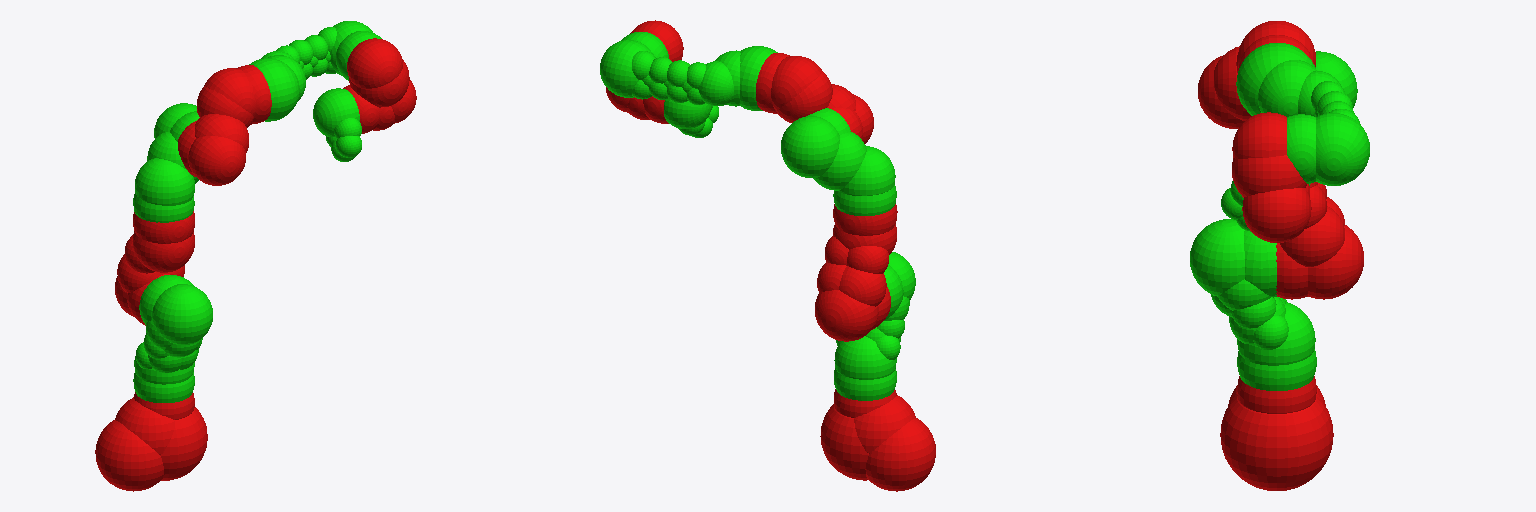
URDF robot description (panda):
<?xml version="1.0" encoding="utf-8"?>
<!-- =================================================================================== -->
<!-- |    This document was autogenerated by xacro from panda_arm.urdf.xacro           | -->
<!-- |    EDITING THIS FILE BY HAND IS NOT RECOMMENDED                                 | -->
<!-- =================================================================================== -->
<robot name="panda">
  <material name="redtran">
    <color rgba=".9 .1 .1 0.3"/>
  </material>
  <material name="greentran">
    <color rgba=".1 .9 .1 0.3"/>
  </material>
  <material name="bluetran">
    <color rgba=".1 .1 .9 0.3"/>
  </material>
  <link name="panda_link0">
    <visual>
      <geometry>
        <mesh filename="package://franka_description/meshes/visual/link0.dae"/>
      </geometry>
    </visual>
    <collision>
      <geometry>
        <mesh filename="package://franka_description/meshes/collision/link0.stl"/>
      </geometry>
    </collision>
    <visual>
      <origin xyz="0 0 .117"/>
      <geometry>
        <sphere radius="0.06"/>
      </geometry>
      <material name="redtran"/>
    </visual>
    <visual>
      <origin xyz="0 0 .042"/>
      <geometry>
        <sphere radius="0.085"/>
      </geometry>
      <material name="redtran"/>
    </visual>
    <visual>
      <origin xyz="-.029 0 .061"/>
      <geometry>
        <sphere radius="0.075"/>
      </geometry>
      <material name="redtran"/>
    </visual>
    <visual>
      <origin xyz="-.068 0 .024"/>
      <geometry>
        <sphere radius="0.075"/>
      </geometry>
      <material name="redtran"/>
    </visual>
  </link>
  <link name="panda_link1">
    <visual>
      <geometry>
        <mesh filename="package://franka_description/meshes/visual/link1.dae"/>
      </geometry>
    </visual>
    <collision>
      <geometry>
        <mesh filename="package://franka_description/meshes/collision/link1.stl"/>
      </geometry>
    </collision>
    <visual>
      <origin xyz="0 -.071 0"/>
      <geometry>
        <sphere radius="0.06"/>
      </geometry>
      <material name="greentran"/>
    </visual>
    <visual>
      <origin xyz="0 -.024 0"/>
      <geometry>
        <sphere radius="0.061"/>
      </geometry>
      <material name="greentran"/>
    </visual>
    <visual>
      <origin xyz="0 -.001 -.134"/>
      <geometry>
        <sphere radius="0.059"/>
      </geometry>
      <material name="greentran"/>
    </visual>
    <visual>
      <origin xyz="0 0 -.17"/>
      <geometry>
        <sphere radius="0.06"/>
      </geometry>
      <material name="greentran"/>
    </visual>
    <visual>
      <origin xyz=".015 -.048 -.032"/>
      <geometry>
        <sphere radius="0.047"/>
      </geometry>
      <material name="greentran"/>
    </visual>
    <visual>
      <origin xyz="-.015 -.048 -.032"/>
      <geometry>
        <sphere radius="0.047"/>
      </geometry>
      <material name="greentran"/>
    </visual>
    <visual>
      <origin xyz="0 -.054 -.047"/>
      <geometry>
        <sphere radius="0.047"/>
      </geometry>
      <material name="greentran"/>
    </visual>
    <visual>
      <origin xyz=".026 -.035 -.069"/>
      <geometry>
        <sphere radius="0.035"/>
      </geometry>
      <material name="greentran"/>
    </visual>
    <visual>
      <origin xyz=".036 -.011 -.103"/>
      <geometry>
        <sphere radius="0.03"/>
      </geometry>
      <material name="greentran"/>
    </visual>
    <visual>
      <origin xyz="-.026 -.035 -.069"/>
      <geometry>
        <sphere radius="0.035"/>
      </geometry>
      <material name="greentran"/>
    </visual>
    <visual>
      <origin xyz="-.036 -.011 -.103"/>
      <geometry>
        <sphere radius="0.03"/>
      </geometry>
      <material name="greentran"/>
    </visual>
    <visual>
      <origin xyz=".011 -.028 -.093"/>
      <geometry>
        <sphere radius="0.044"/>
      </geometry>
      <material name="greentran"/>
    </visual>
    <visual>
      <origin xyz="-.011 -.028 -.093"/>
      <geometry>
        <sphere radius="0.044"/>
      </geometry>
      <material name="greentran"/>
    </visual>
  </link>
  <joint name="panda_joint1" type="revolute">
    <safety_controller k_position="100.0" k_velocity="40.0" soft_lower_limit="-2.8973" soft_upper_limit="2.8973"/>
    <origin rpy="0 0 0" xyz="0 0 0.333"/>
    <parent link="panda_link0"/>
    <child link="panda_link1"/>
    <axis xyz="0 0 1"/>
    <limit effort="87" lower="-2.8973" upper="2.8973" velocity="2.1750"/>
  </joint>
  <link name="panda_link2">
    <visual>
      <geometry>
        <mesh filename="package://franka_description/meshes/visual/link2.dae"/>
      </geometry>
    </visual>
    <collision>
      <geometry>
        <mesh filename="package://franka_description/meshes/collision/link2.stl"/>
      </geometry>
    </collision>
    <visual>
      <origin xyz="0 -.128 .001"/>
      <geometry>
        <sphere radius="0.061"/>
      </geometry>
      <material name="redtran"/>
    </visual>
    <visual>
      <origin xyz="0 0 .023"/>
      <geometry>
        <sphere radius="0.061"/>
      </geometry>
      <material name="redtran"/>
    </visual>
    <visual>
      <origin xyz="-.016 -.045 .051"/>
      <geometry>
        <sphere radius="0.052"/>
      </geometry>
      <material name="redtran"/>
    </visual>
    <visual>
      <origin xyz=".021 -.097 .032"/>
      <geometry>
        <sphere radius="0.043"/>
      </geometry>
      <material name="redtran"/>
    </visual>
    <visual>
      <origin xyz="0 0 .07"/>
      <geometry>
        <sphere radius="0.061"/>
      </geometry>
      <material name="redtran"/>
    </visual>
    <visual>
      <origin xyz="0 -.173 0"/>
      <geometry>
        <sphere radius="0.061"/>
      </geometry>
      <material name="redtran"/>
    </visual>
    <visual>
      <origin xyz=".016 -.045 .051"/>
      <geometry>
        <sphere radius="0.052"/>
      </geometry>
      <material name="redtran"/>
    </visual>
    <visual>
      <origin xyz="-.021 -.097 .032"/>
      <geometry>
        <sphere radius="0.043"/>
      </geometry>
      <material name="redtran"/>
    </visual>
  </link>
  <joint name="panda_joint2" type="revolute">
    <safety_controller k_position="100.0" k_velocity="40.0" soft_lower_limit="-1.7628" soft_upper_limit="1.7628"/>
    <origin rpy="-1.57079632679 0 0" xyz="0 0 0"/>
    <parent link="panda_link1"/>
    <child link="panda_link2"/>
    <axis xyz="0 0 1"/>
    <limit effort="87" lower="-1.7628" upper="1.7628" velocity="2.1750"/>
  </joint>
  <link name="panda_link3">
    <visual>
      <geometry>
        <mesh filename="package://franka_description/meshes/visual/link3.dae"/>
      </geometry>
    </visual>
    <collision>
      <geometry>
        <mesh filename="package://franka_description/meshes/collision/link3.stl"/>
      </geometry>
    </collision>
    <visual>
      <origin xyz=".045 .026 -.032"/>
      <geometry>
        <sphere radius="0.059"/>
      </geometry>
      <material name="greentran"/>
    </visual>
    <visual>
      <origin xyz=".084 .017 -.001"/>
      <geometry>
        <sphere radius="0.06"/>
      </geometry>
      <material name="greentran"/>
    </visual>
    <visual>
      <origin xyz=".081 .062 0"/>
      <geometry>
        <sphere radius="0.059"/>
      </geometry>
      <material name="greentran"/>
    </visual>
    <visual>
      <origin xyz="0 .001 -.105"/>
      <geometry>
        <sphere radius="0.06"/>
      </geometry>
      <material name="greentran"/>
    </visual>
    <visual>
      <origin xyz=".002 0 -.069"/>
      <geometry>
        <sphere radius="0.059"/>
      </geometry>
      <material name="greentran"/>
    </visual>
  </link>
  <joint name="panda_joint3" type="revolute">
    <safety_controller k_position="100.0" k_velocity="40.0" soft_lower_limit="-2.8973" soft_upper_limit="2.8973"/>
    <origin rpy="1.57079632679 0 0" xyz="0 -0.316 0"/>
    <parent link="panda_link2"/>
    <child link="panda_link3"/>
    <axis xyz="0 0 1"/>
    <limit effort="87" lower="-2.8973" upper="2.8973" velocity="2.1750"/>
  </joint>
  <link name="panda_link4">
    <visual>
      <geometry>
        <mesh filename="package://franka_description/meshes/visual/link4.dae"/>
      </geometry>
    </visual>
    <collision>
      <geometry>
        <mesh filename="package://franka_description/meshes/collision/link4.stl"/>
      </geometry>
    </collision>
    <visual>
      <origin xyz="0 0 .062"/>
      <geometry>
        <sphere radius="0.057"/>
      </geometry>
      <material name="redtran"/>
    </visual>
    <visual>
      <origin xyz="0 0 .018"/>
      <geometry>
        <sphere radius="0.059"/>
      </geometry>
      <material name="redtran"/>
    </visual>
    <visual>
      <origin xyz="-.022 .019 .04"/>
      <geometry>
        <sphere radius="0.058"/>
      </geometry>
      <material name="redtran"/>
    </visual>
    <visual>
      <origin xyz="-.082 .111 0"/>
      <geometry>
        <sphere radius="0.058"/>
      </geometry>
      <material name="redtran"/>
    </visual>
    <visual>
      <origin xyz="-.084 .069 0"/>
      <geometry>
        <sphere radius="0.059"/>
      </geometry>
      <material name="redtran"/>
    </visual>
    <visual>
      <origin xyz="-.071 .057 .002"/>
      <geometry>
        <sphere radius="0.059"/>
      </geometry>
      <material name="redtran"/>
    </visual>
  </link>
  <joint name="panda_joint4" type="revolute">
    <safety_controller k_position="100.0" k_velocity="40.0" soft_lower_limit="-3.0718" soft_upper_limit="-0.0698"/>
    <origin rpy="1.57079632679 0 0" xyz="0.0825 0 0"/>
    <parent link="panda_link3"/>
    <child link="panda_link4"/>
    <axis xyz="0 0 1"/>
    <limit effort="87" lower="-3.0718" upper="-0.0698" velocity="2.1750"/>
  </joint>
  <link name="panda_link5">
    <visual>
      <geometry>
        <mesh filename="package://franka_description/meshes/visual/link5.dae"/>
      </geometry>
    </visual>
    <collision>
      <geometry>
        <mesh filename="package://franka_description/meshes/collision/link5.stl"/>
      </geometry>
    </collision>
    <visual>
      <origin xyz="0 .021 -.197"/>
      <geometry>
        <sphere radius="0.053"/>
      </geometry>
      <material name="greentran"/>
    </visual>
    <visual>
      <origin xyz="-.018 .096 -.036"/>
      <geometry>
        <sphere radius="0.03"/>
      </geometry>
      <material name="greentran"/>
    </visual>
    <visual>
      <origin xyz="0 .085 0"/>
      <geometry>
        <sphere radius="0.055"/>
      </geometry>
      <material name="greentran"/>
    </visual>
    <visual>
      <origin xyz=".018 .096 -.036"/>
      <geometry>
        <sphere radius="0.03"/>
      </geometry>
      <material name="greentran"/>
    </visual>
    <visual>
      <origin xyz="0 .037 0"/>
      <geometry>
        <sphere radius="0.053"/>
      </geometry>
      <material name="greentran"/>
    </visual>
    <visual>
      <origin xyz="0 .001 -.233"/>
      <geometry>
        <sphere radius="0.062"/>
      </geometry>
      <material name="greentran"/>
    </visual>
    <visual>
      <origin xyz="0 .059 -.178"/>
      <geometry>
        <sphere radius="0.043"/>
      </geometry>
      <material name="greentran"/>
    </visual>
    <visual>
      <origin xyz=".015 .077 -.147"/>
      <geometry>
        <sphere radius="0.027"/>
      </geometry>
      <material name="greentran"/>
    </visual>
    <visual>
      <origin xyz="-.015 .091 -.076"/>
      <geometry>
        <sphere radius="0.027"/>
      </geometry>
      <material name="greentran"/>
    </visual>
    <visual>
      <origin xyz="0 .094 -.053"/>
      <geometry>
        <sphere radius="0.024"/>
      </geometry>
      <material name="greentran"/>
    </visual>
    <visual>
      <origin xyz=".015 .087 -.112"/>
      <geometry>
        <sphere radius="0.027"/>
      </geometry>
      <material name="greentran"/>
    </visual>
    <visual>
      <origin xyz="-.015 .087 -.112"/>
      <geometry>
        <sphere radius="0.027"/>
      </geometry>
      <material name="greentran"/>
    </visual>
    <visual>
      <origin xyz=".015 .091 -.076"/>
      <geometry>
        <sphere radius="0.027"/>
      </geometry>
      <material name="greentran"/>
    </visual>
    <visual>
      <origin xyz="-.015 .077 -.147"/>
      <geometry>
        <sphere radius="0.027"/>
      </geometry>
      <material name="greentran"/>
    </visual>
    <visual>
      <origin xyz="0 .081 -.132"/>
      <geometry>
        <sphere radius="0.024"/>
      </geometry>
      <material name="greentran"/>
    </visual>
    <visual>
      <origin xyz="0 .087 -.092"/>
      <geometry>
        <sphere radius="0.022"/>
      </geometry>
      <material name="greentran"/>
    </visual>
  </link>
  <joint name="panda_joint5" type="revolute">
    <safety_controller k_position="100.0" k_velocity="40.0" soft_lower_limit="-2.8973" soft_upper_limit="2.8973"/>
    <origin rpy="-1.57079632679 0 0" xyz="-0.0825 0.384 0"/>
    <parent link="panda_link4"/>
    <child link="panda_link5"/>
    <axis xyz="0 0 1"/>
    <limit effort="12" lower="-2.8973" upper="2.8973" velocity="2.6100"/>
  </joint>
  <link name="panda_link6">
    <visual>
      <geometry>
        <mesh filename="package://franka_description/meshes/visual/link6.dae"/>
      </geometry>
    </visual>
    <collision>
      <geometry>
        <mesh filename="package://franka_description/meshes/collision/link6.stl"/>
      </geometry>
    </collision>
    <visual>
      <origin xyz=".087 -.03 .0"/>
      <geometry>
        <sphere radius="0.05"/>
      </geometry>
      <material name="redtran"/>
    </visual>
    <visual>
      <origin xyz=".028 .011 .009"/>
      <geometry>
        <sphere radius="0.059"/>
      </geometry>
      <material name="redtran"/>
    </visual>
    <visual>
      <origin xyz="-.001 0 .012"/>
      <geometry>
        <sphere radius="0.055"/>
      </geometry>
      <material name="redtran"/>
    </visual>
    <visual>
      <origin xyz=".079 .04 0"/>
      <geometry>
        <sphere radius="0.052"/>
      </geometry>
      <material name="redtran"/>
    </visual>
    <visual>
      <origin xyz=".09 .01 .0"/>
      <geometry>
        <sphere radius="0.049"/>
      </geometry>
      <material name="redtran"/>
    </visual>
  </link>
  <joint name="panda_joint6" type="revolute">
    <safety_controller k_position="100.0" k_velocity="40.0" soft_lower_limit="-0.0175" soft_upper_limit="3.7525"/>
    <origin rpy="1.57079632679 0 0" xyz="0 0 0"/>
    <parent link="panda_link5"/>
    <child link="panda_link6"/>
    <axis xyz="0 0 1"/>
    <limit effort="12" lower="-0.0175" upper="3.7525" velocity="2.6100"/>
  </joint>
  <link name="panda_link7">
    <visual>
      <geometry>
        <mesh filename="package://franka_description/meshes/visual/link7.dae"/>
      </geometry>
    </visual>
    <collision>
      <geometry>
        <mesh filename="package://franka_description/meshes/collision/link7.stl"/>
      </geometry>
    </collision>
    <visual>
      <origin xyz=".0 .0 .075"/>
      <geometry>
        <sphere radius="0.05"/>
      </geometry>
      <material name="greentran"/>
    </visual>
    <visual>
      <origin xyz=".016 .042 .079"/>
      <geometry>
        <sphere radius="0.028"/>
      </geometry>
      <material name="greentran"/>
    </visual>
    <visual>
      <origin xyz=".041 .012 .079"/>
      <geometry>
        <sphere radius="0.028"/>
      </geometry>
      <material name="greentran"/>
    </visual>
    <visual>
      <origin xyz=".04 .058 .085"/>
      <geometry>
        <sphere radius="0.026"/>
      </geometry>
      <material name="greentran"/>
    </visual>
    <visual>
      <origin xyz=".058 .037 .083"/>
      <geometry>
        <sphere radius="0.026"/>
      </geometry>
      <material name="greentran"/>
    </visual>
  </link>
  <joint name="panda_joint7" type="revolute">
    <safety_controller k_position="100.0" k_velocity="40.0" soft_lower_limit="-2.8973" soft_upper_limit="2.8973"/>
    <origin rpy="1.57079632679 0 0" xyz="0.088 0 0"/>
    <parent link="panda_link6"/>
    <child link="panda_link7"/>
    <axis xyz="0 0 1"/>
    <limit effort="12" lower="-2.8973" upper="2.8973" velocity="2.6100"/>
  </joint>
  <link name="panda_link8"/>
  <joint name="panda_joint8" type="fixed">
    <origin rpy="0 0 0" xyz="0 0 0.107"/>
    <parent link="panda_link7"/>
    <child link="panda_link8"/>
    <axis xyz="0 0 0"/>
  </joint>
</robot>

--- Facts derived from the render (not from the file) ---
Views: 3 orthographic renders of the robot side by side, from view 1: azimuth 30°, elevation 25°; view 2: azimuth 150°, elevation 25°; view 3: azimuth 270°, elevation 25°.
Robot: panda — 9 links, 8 joints (7 revolute, 1 fixed); root link panda_link0; default pose: joints at zero except 1 at the middle of their limits (panda_joint4 = -1.57).
Links seen in each view (by area): view 1: panda_link0, panda_link1, panda_link4, panda_link5, panda_link3, panda_link6, panda_link2, panda_link7; view 2: panda_link0, panda_link5, panda_link2, panda_link3, panda_link1, panda_link4, panda_link6, panda_link7; view 3: panda_link1, panda_link5, panda_link0, panda_link6, panda_link2, panda_link4, panda_link3, panda_link7.
Boxes of the visible links, <box> form: panda_link0: <box>95,392,207,491</box>; panda_link1: <box>133,275,212,402</box>; panda_link4: <box>178,65,271,185</box>; panda_link5: <box>249,21,381,121</box>; panda_link3: <box>133,103,199,222</box>; panda_link6: <box>343,38,416,133</box>; panda_link2: <box>115,211,194,325</box>; panda_link7: <box>313,88,361,161</box>; panda_link0: <box>820,389,935,491</box>; panda_link5: <box>600,32,777,110</box>; panda_link2: <box>815,204,897,341</box>; panda_link3: <box>781,108,896,215</box>; panda_link1: <box>834,252,915,400</box>; panda_link4: <box>756,53,873,143</box>; panda_link6: <box>606,20,683,123</box>; panda_link7: <box>664,98,718,137</box>; panda_link1: <box>1190,219,1316,390</box>; panda_link5: <box>1236,43,1369,185</box>; panda_link0: <box>1220,376,1333,490</box>; panda_link6: <box>1232,112,1311,242</box>; panda_link2: <box>1276,182,1363,299</box>; panda_link4: <box>1198,21,1315,128</box>; panda_link3: <box>1316,51,1357,107</box>; panda_link7: <box>1221,181,1309,231</box>.
Bounding box of the posed robot: 0.7015 × 0.271 × 0.8445 m (x, y, z).
0 mesh visuals loaded from 8 distinct referenced files (none loaded); not drawn: 8 (reference not matched to a file when rendering).
